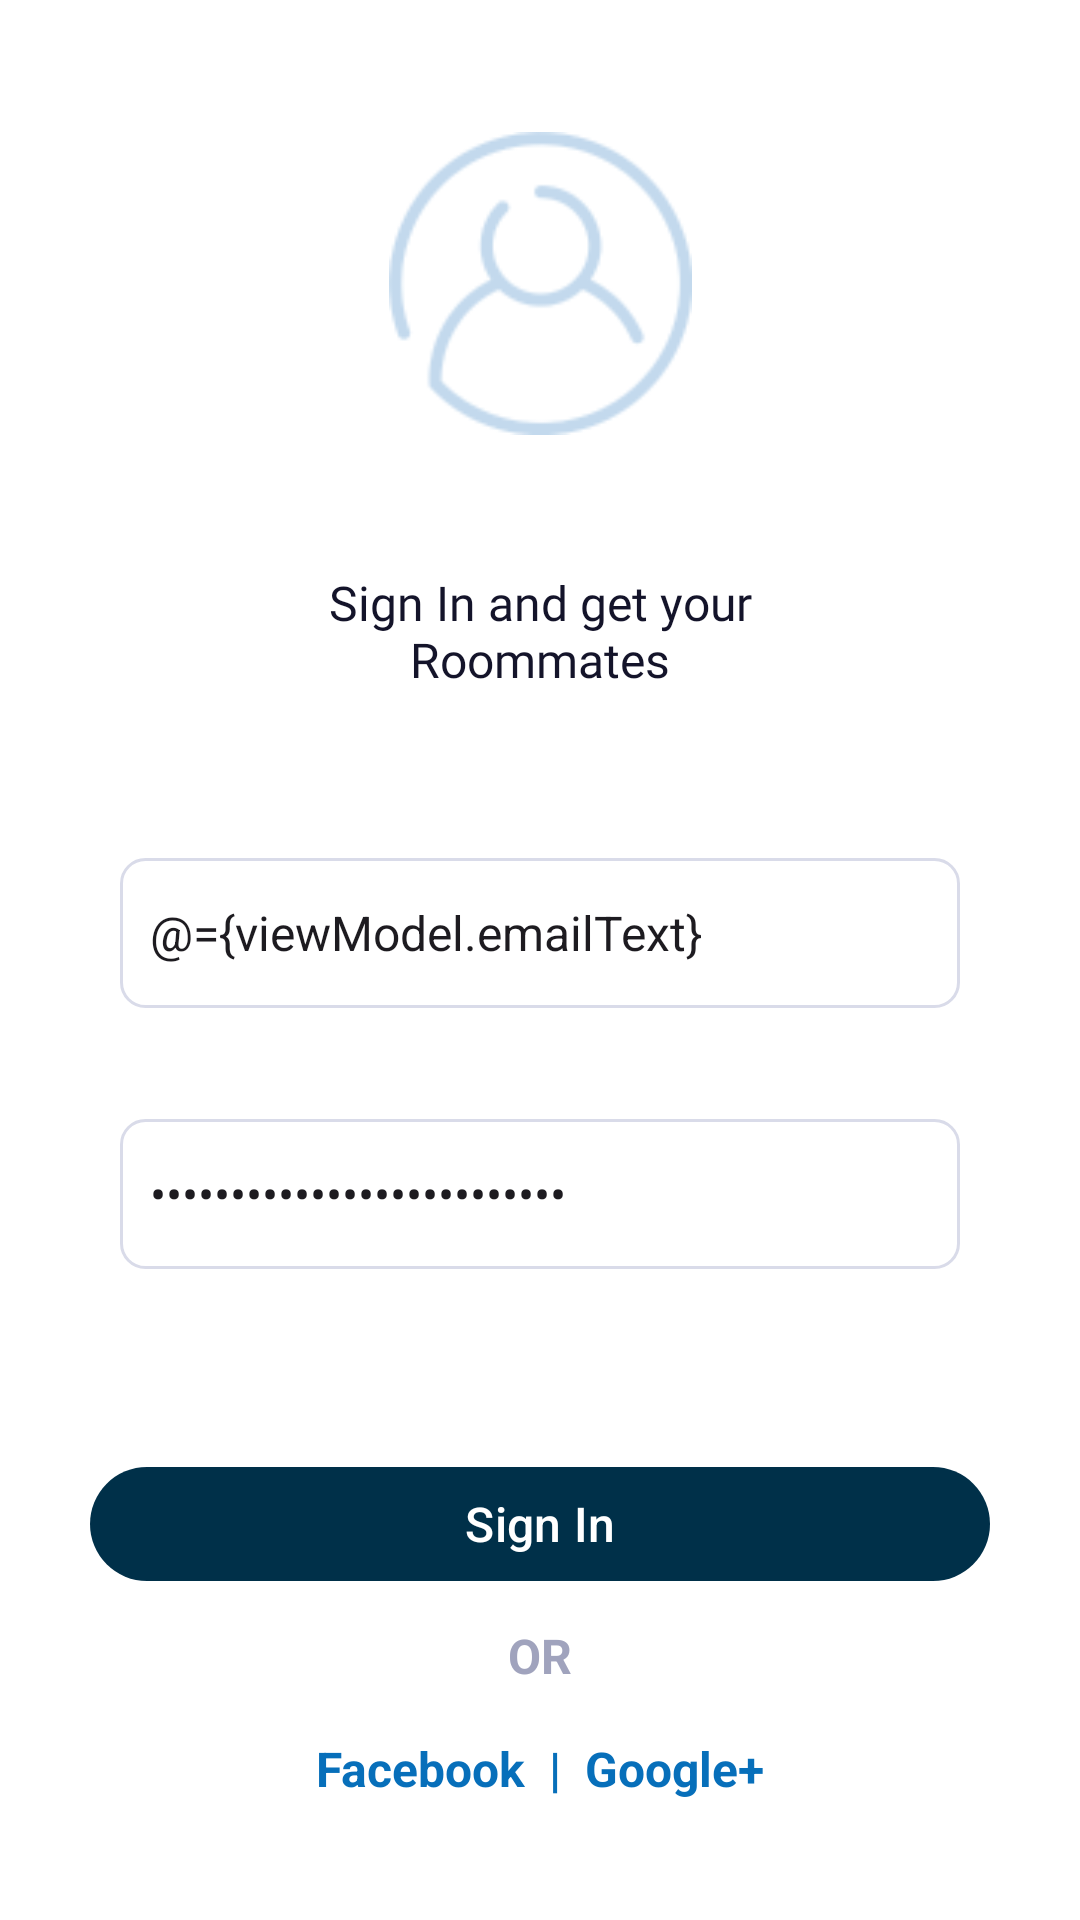

Locate icon controls on the screen. Image size 1080px×1920px, boxes as (x1, y1, x2, y2).
user: (389, 132, 692, 435)
